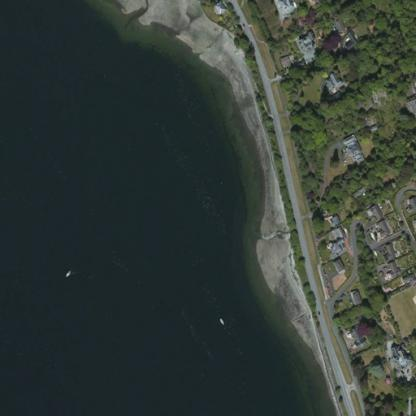ship: (63, 269, 71, 278), (218, 316, 224, 325)
